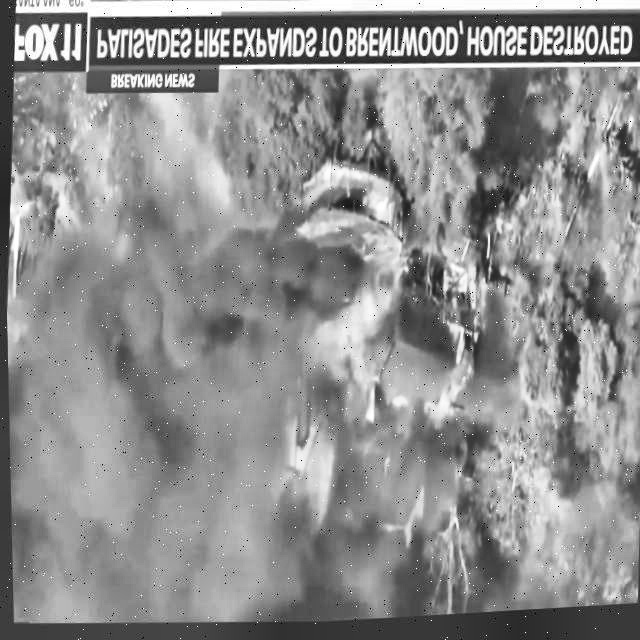Smoke: (4, 233, 364, 640)
